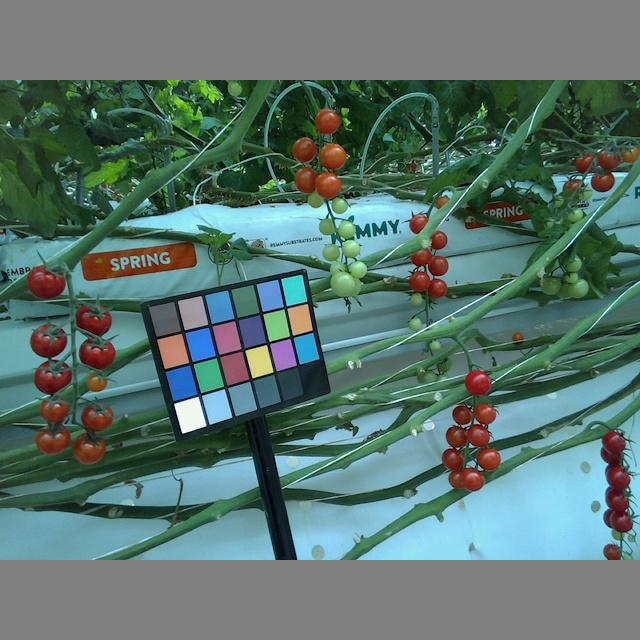green: (328, 271, 356, 299), (346, 257, 368, 281), (339, 235, 360, 257), (321, 240, 341, 262), (337, 219, 356, 240), (318, 216, 337, 234), (330, 197, 348, 214), (308, 189, 324, 207)
pink: (318, 142, 346, 170), (313, 171, 342, 198), (312, 109, 339, 135), (292, 135, 318, 162), (292, 166, 318, 192), (87, 373, 108, 392)
red: (32, 357, 73, 396), (30, 321, 69, 358), (28, 265, 70, 299), (73, 302, 112, 338), (77, 339, 115, 370), (35, 423, 70, 456), (71, 433, 107, 464), (80, 404, 115, 431), (38, 397, 70, 423), (464, 367, 493, 395), (446, 423, 473, 450), (461, 464, 486, 492), (466, 422, 494, 446), (602, 430, 628, 455), (476, 446, 503, 470), (604, 465, 632, 488), (471, 399, 497, 423), (608, 509, 633, 533), (450, 403, 476, 426), (441, 447, 466, 470), (427, 254, 449, 278), (428, 278, 449, 301), (608, 493, 632, 512), (410, 271, 431, 292), (428, 230, 448, 251), (409, 212, 428, 234)
